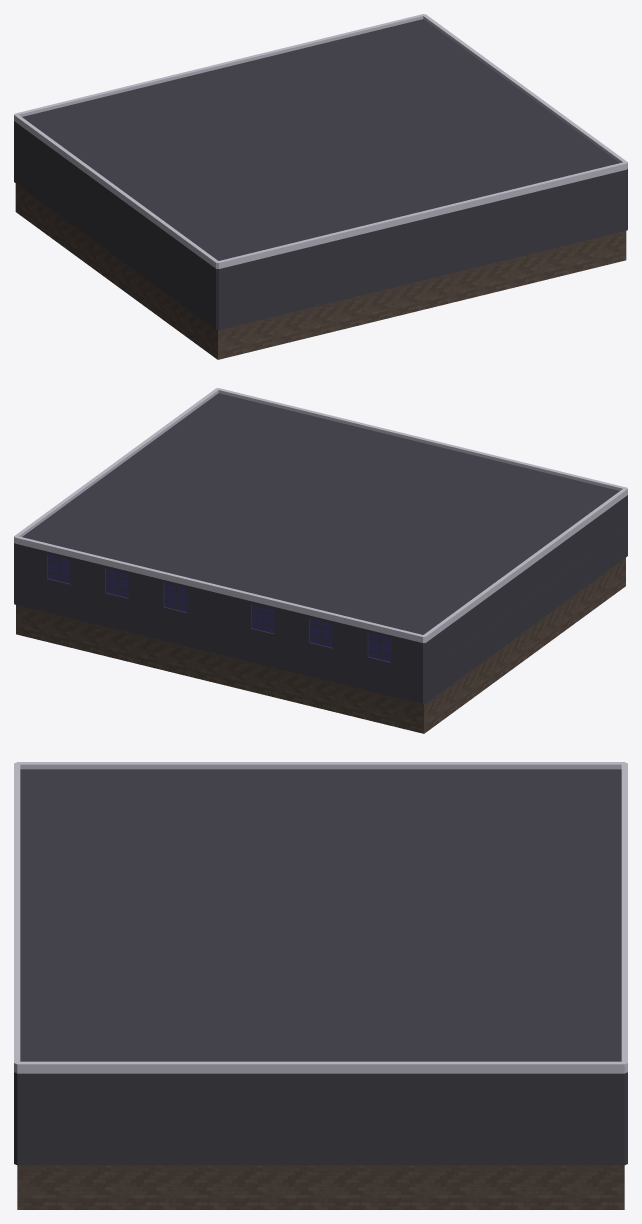
File: SalleMachine.glb
The picture shows the model from 3 angles, top to bottom: view 1: azimuth 30°, elevation 25°; view 2: azimuth 150°, elevation 25°; view 3: azimuth 270°, elevation 25°; orthographic projection. The views are drawn at different scales.
Parts seen in each view (by area): view 1: mergedBlocks(Clone); view 2: mergedBlocks(Clone); view 3: mergedBlocks(Clone).
Boxes of the visible parts, <box> form: mergedBlocks(Clone): <box>14,14,627,359</box>; mergedBlocks(Clone): <box>14,388,627,733</box>; mergedBlocks(Clone): <box>14,762,627,1209</box>.
Bounding box in the file's own units: 14.13 × 3.2 × 12.13.
11 materials, 1 textured.
